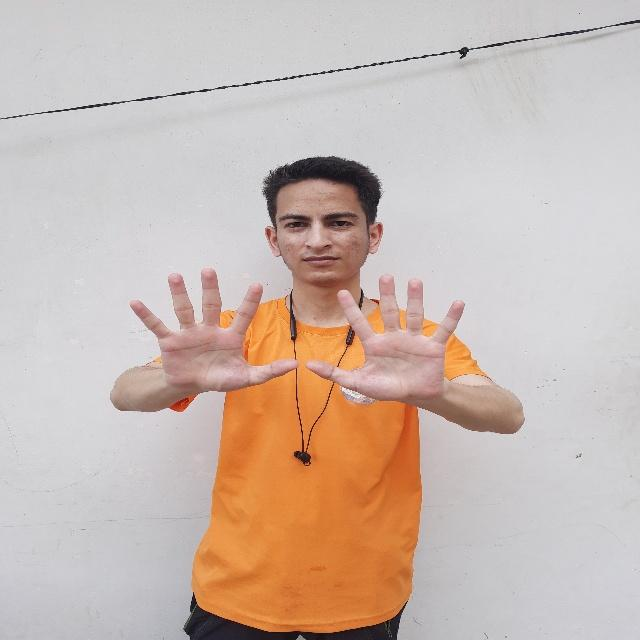Moutza: (119, 258, 303, 402), (298, 269, 480, 413)
